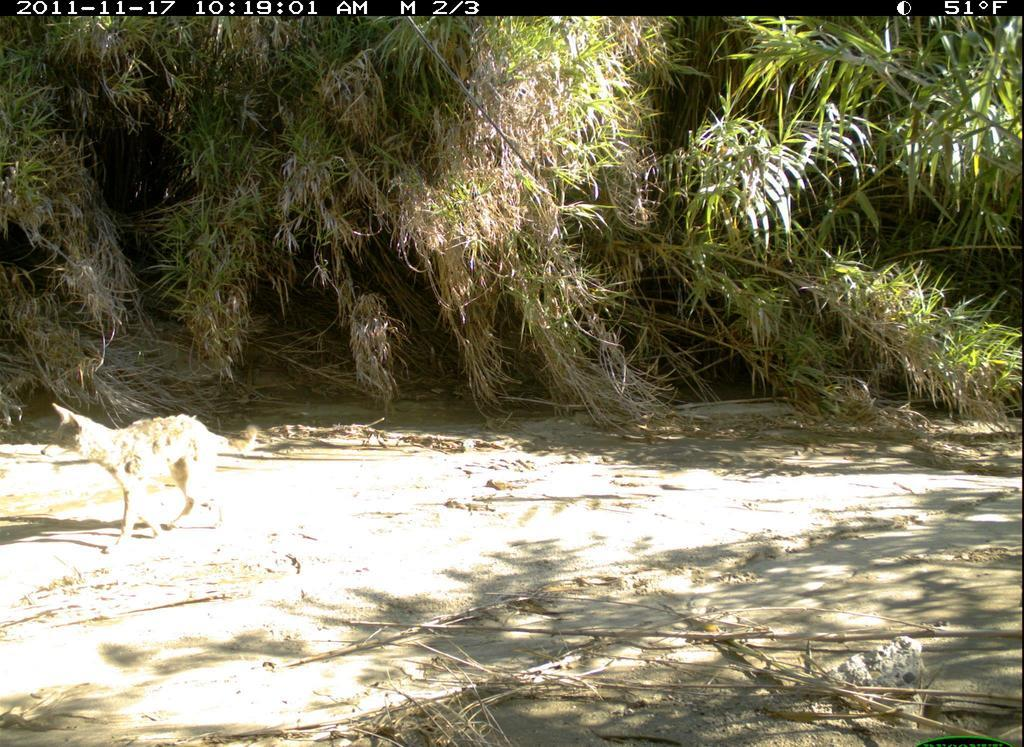coyote: (33, 391, 264, 552)
